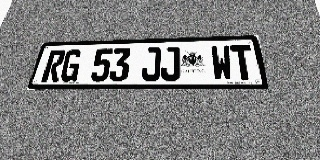3: (109, 48, 131, 82)
5: (90, 48, 113, 82)
G: (58, 49, 83, 82)
J: (141, 47, 161, 81), (161, 47, 180, 81)
R: (41, 50, 66, 82)
T: (230, 45, 256, 80)
W: (210, 45, 234, 81)
